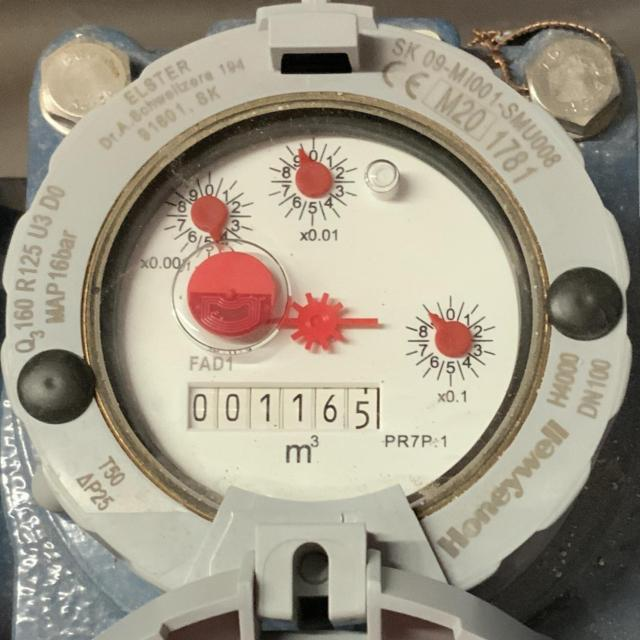gaz_meter: (90, 91, 548, 522)
indication: (183, 381, 382, 432)
